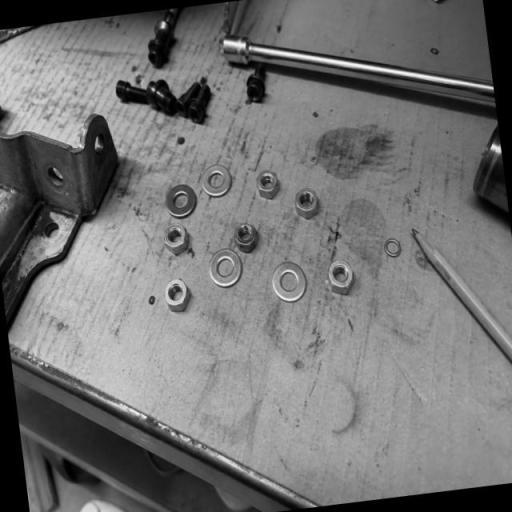Bolt: (146, 8, 177, 69), (176, 76, 211, 124), (144, 77, 184, 117), (115, 79, 161, 106), (245, 68, 267, 104)
Nut: (327, 258, 356, 294), (163, 278, 190, 313), (162, 222, 190, 255), (233, 220, 260, 253), (294, 187, 321, 218), (255, 169, 280, 198)
Washer: (271, 261, 308, 303), (208, 249, 244, 288), (165, 183, 199, 219), (200, 163, 233, 198), (384, 238, 402, 258)
